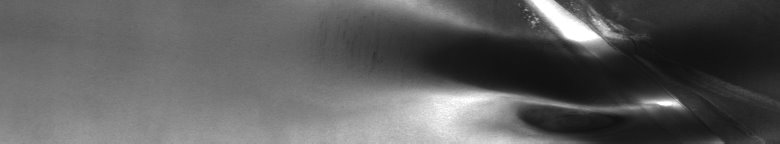ke: (437, 4, 760, 136)
